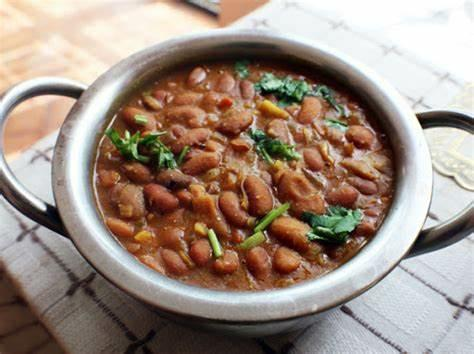RajmaCurry: (90, 62, 388, 292)
